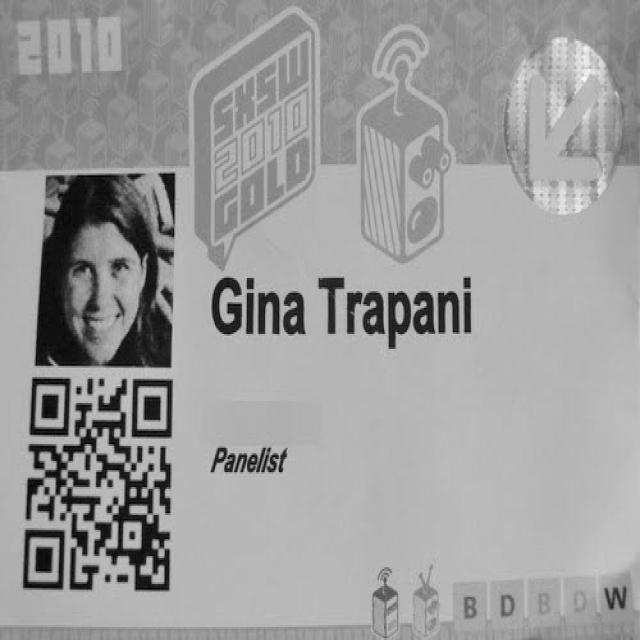QR-codes: (22, 372, 173, 591)
